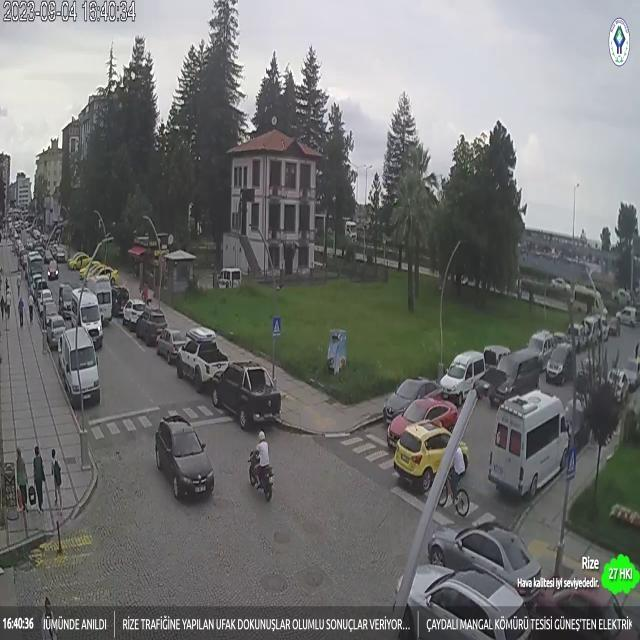Car: (427, 522, 544, 590), (154, 412, 215, 504), (392, 422, 466, 488), (380, 395, 460, 439), (382, 377, 442, 421)
Cycle: (249, 428, 276, 502)
Truck: (486, 388, 578, 497)
Van: (60, 325, 100, 405), (70, 283, 102, 348)
